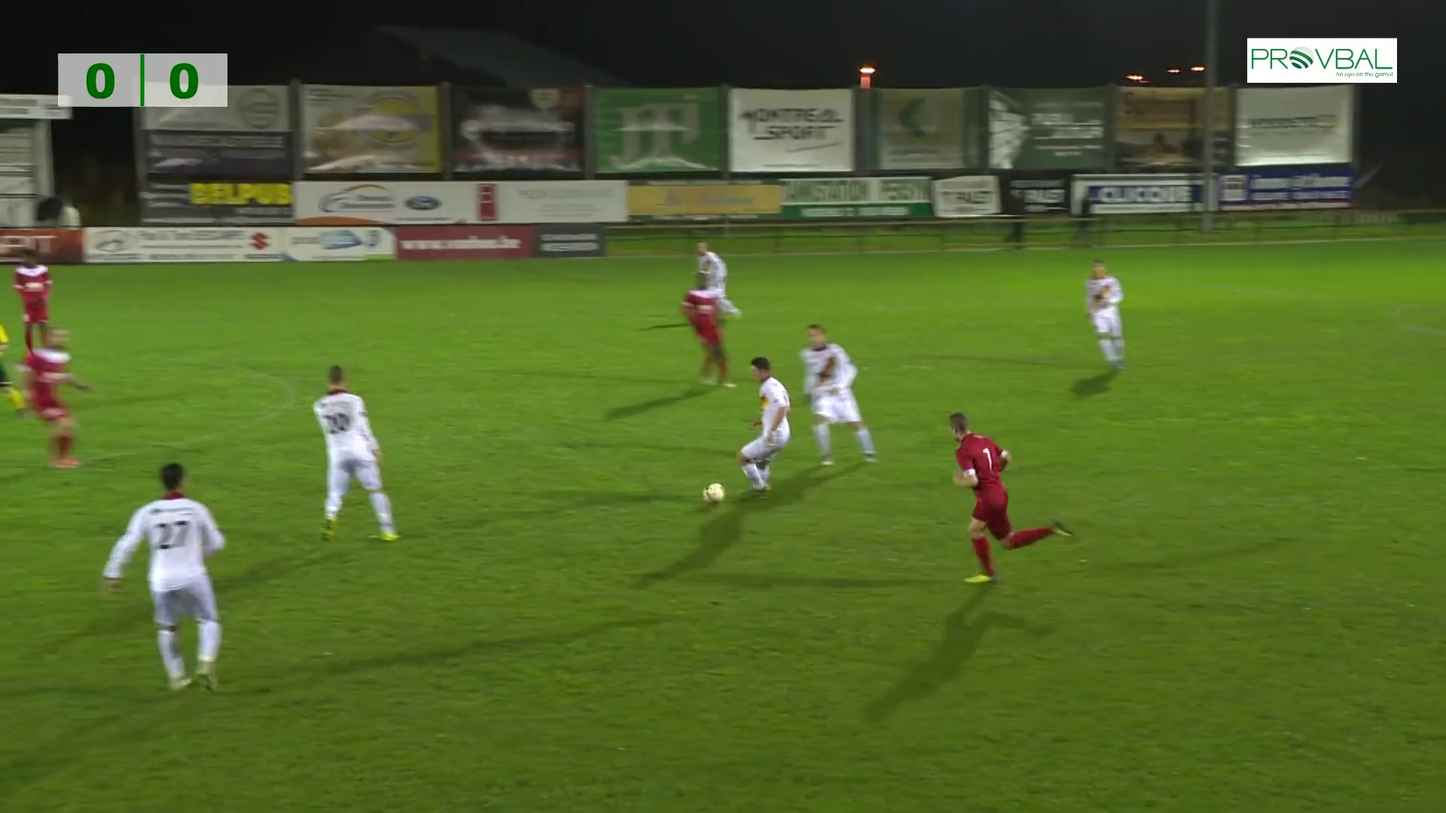red_team: (942, 410, 1075, 583), (22, 325, 92, 470), (685, 267, 738, 388), (11, 254, 62, 351)
referee: (2, 321, 28, 411)
white_team: (102, 464, 236, 693), (312, 361, 406, 543), (795, 312, 882, 466), (734, 358, 798, 493), (1085, 254, 1133, 366), (696, 239, 739, 312)
